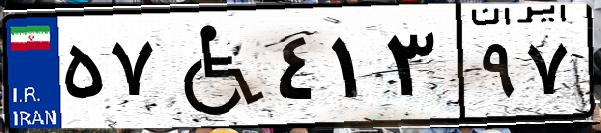1: (330, 28, 385, 110)
3: (385, 28, 445, 110)
4: (270, 28, 330, 110)
5: (57, 26, 110, 100)
7: (525, 38, 570, 115), (110, 28, 158, 98)
9: (475, 38, 525, 113)
ژ (معلولین و جانبازان): (158, 12, 270, 120)
